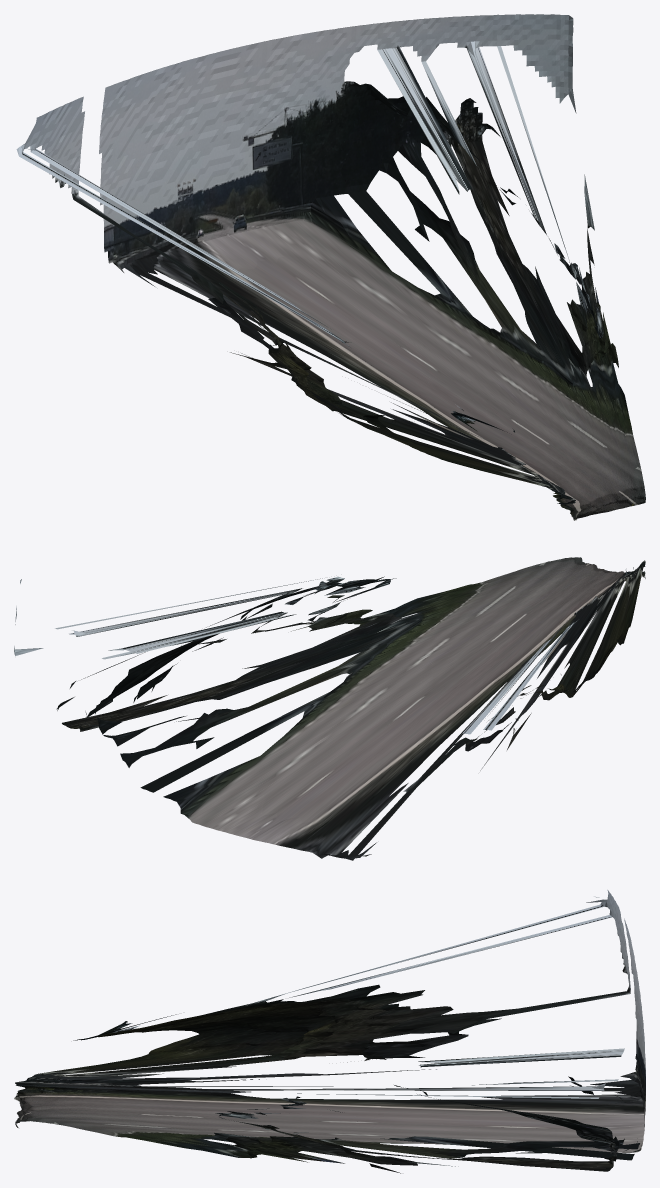
The picture shows the model from 3 angles, top to bottom: view 1: azimuth 30°, elevation 25°; view 2: azimuth 150°, elevation 25°; view 3: azimuth 270°, elevation 25°; orthographic projection. The views are drawn at different scales.
Parts seen in each view (by area): view 1: defaultobject; view 2: defaultobject; view 3: defaultobject.
Boxes of the visible parts, x1,y1,x2,y2 form: defaultobject: (16,14,645,520); defaultobject: (14,557,645,860); defaultobject: (14,890,645,1173).
Bounding box in the file's own units: 35.88 × 12.45 × 44.55.
Materials: 1 (1 with a texture image).
